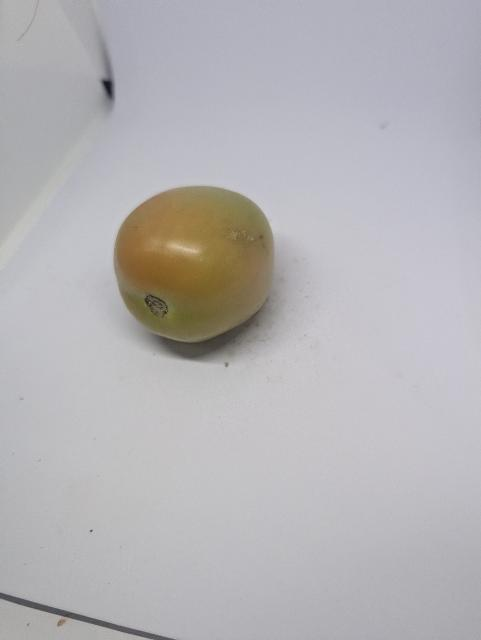breaker: (114, 186, 275, 343)
